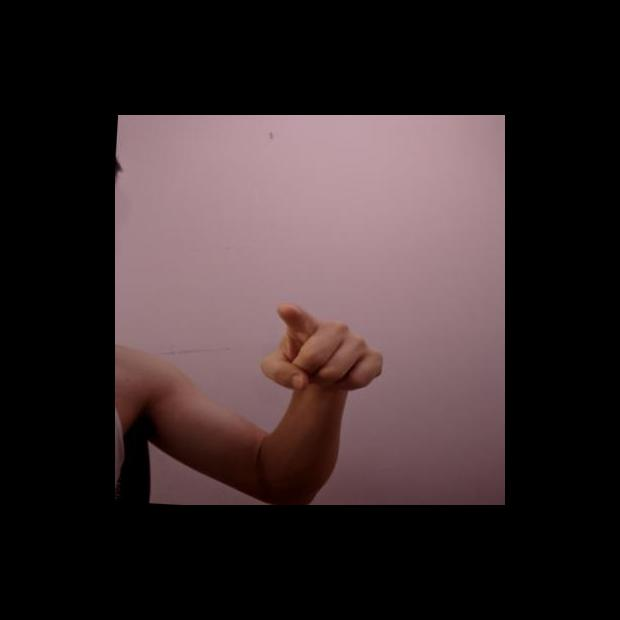Y: (254, 298, 390, 398)
